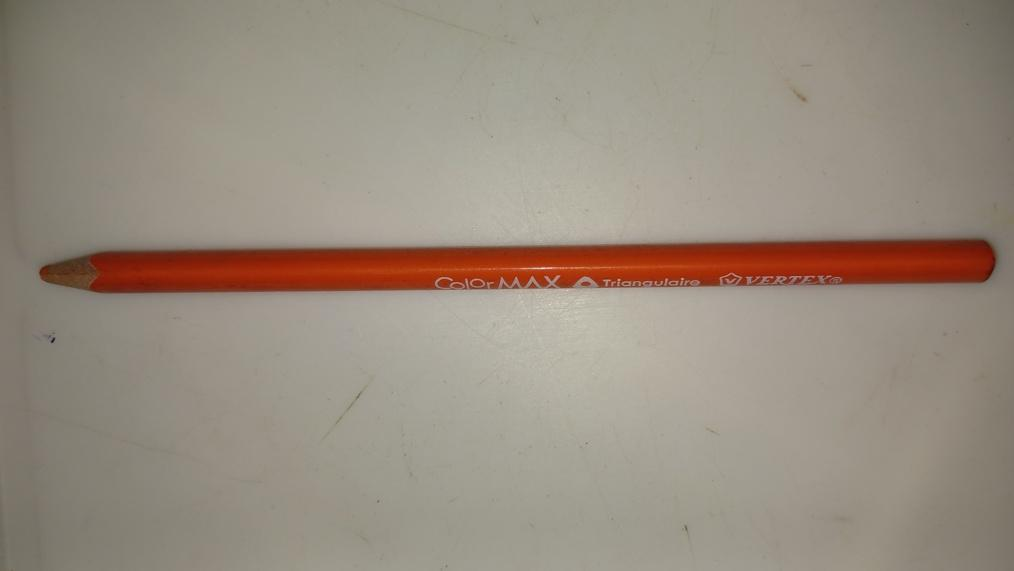Pencil: (41, 238, 1003, 289)
